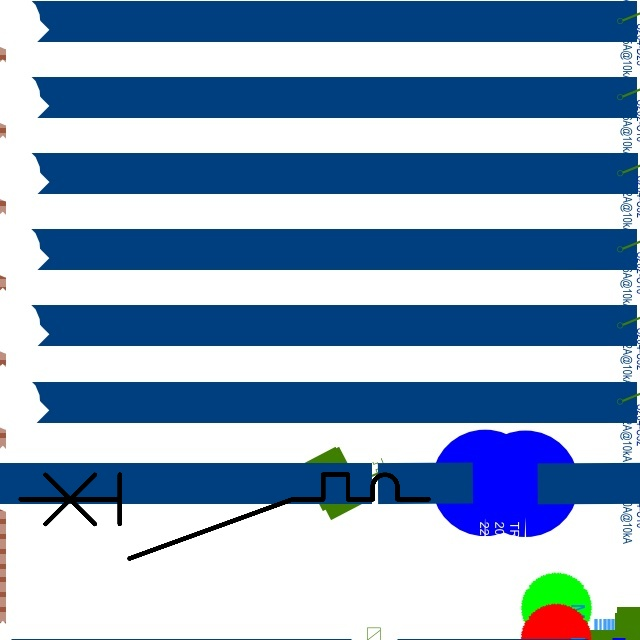interruptor_termomagnetico: (10, 464, 439, 569)
